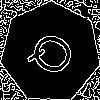Q: (25, 27, 85, 84)
